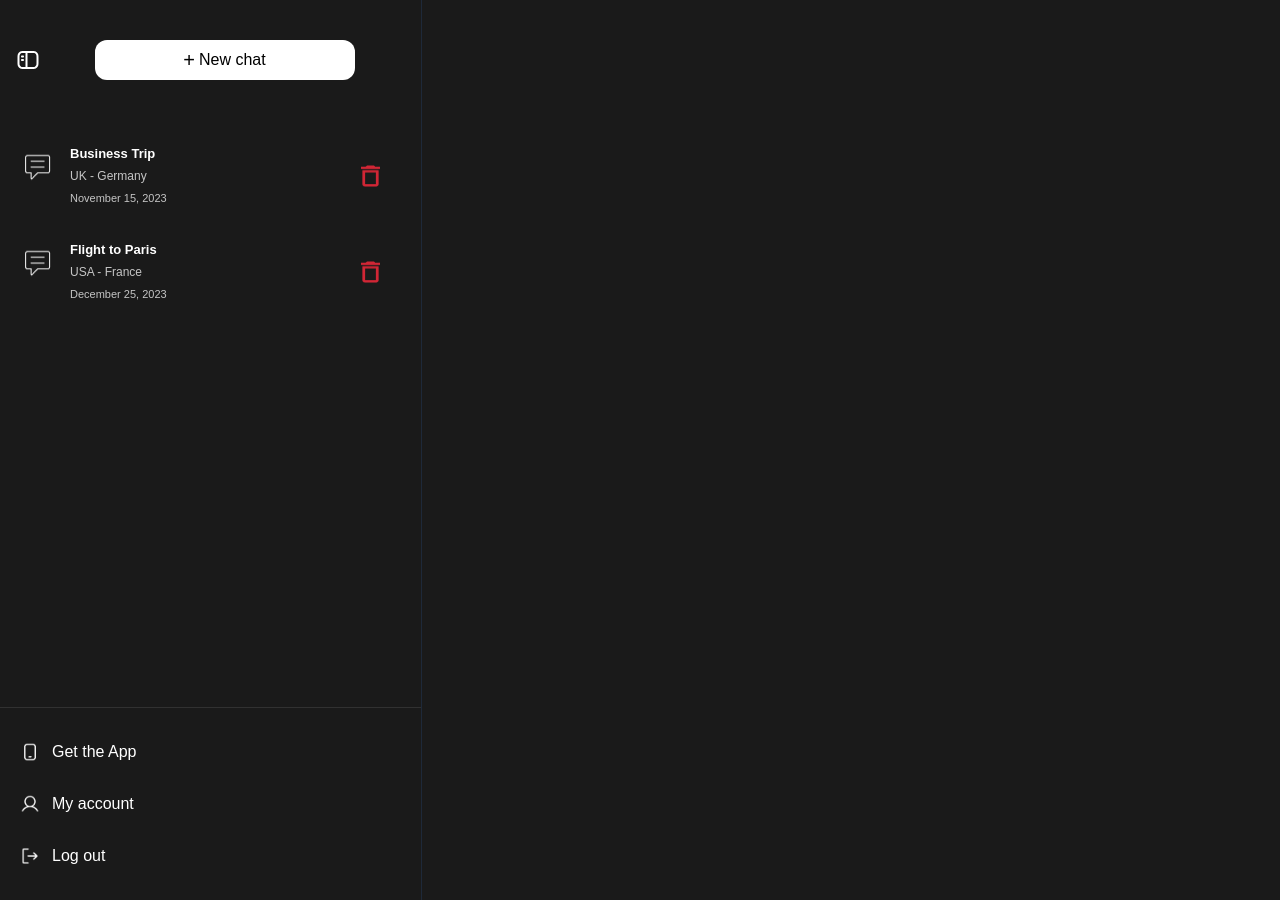
it: Sidebar Component › toggles account modal
Click the button "My account" at [93, 804], box [20,780,401,828]
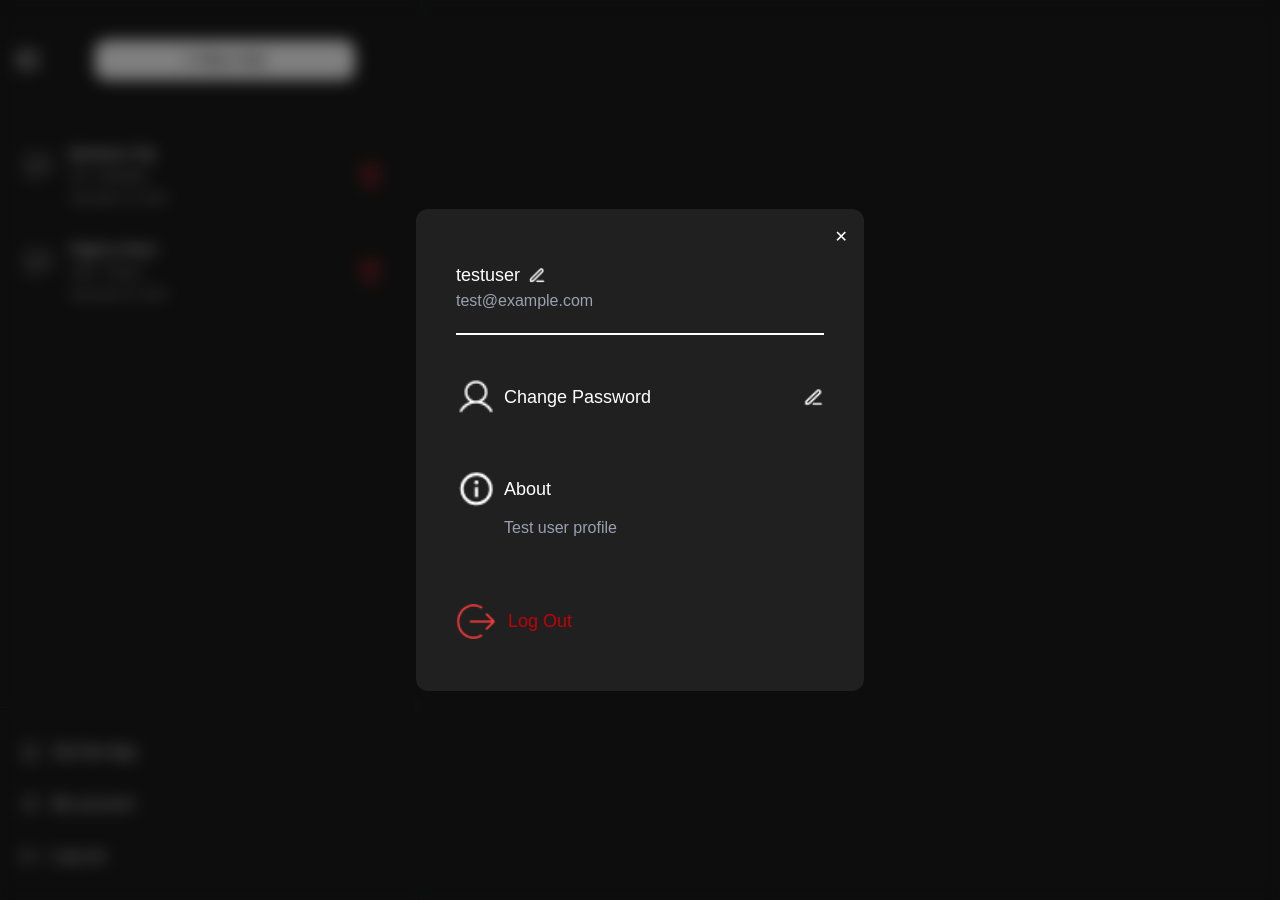
expect the heading "testuser" is shown: met, box [456,262,520,290]
Click the button named "Close" at [841, 238], box [835,226,848,250]
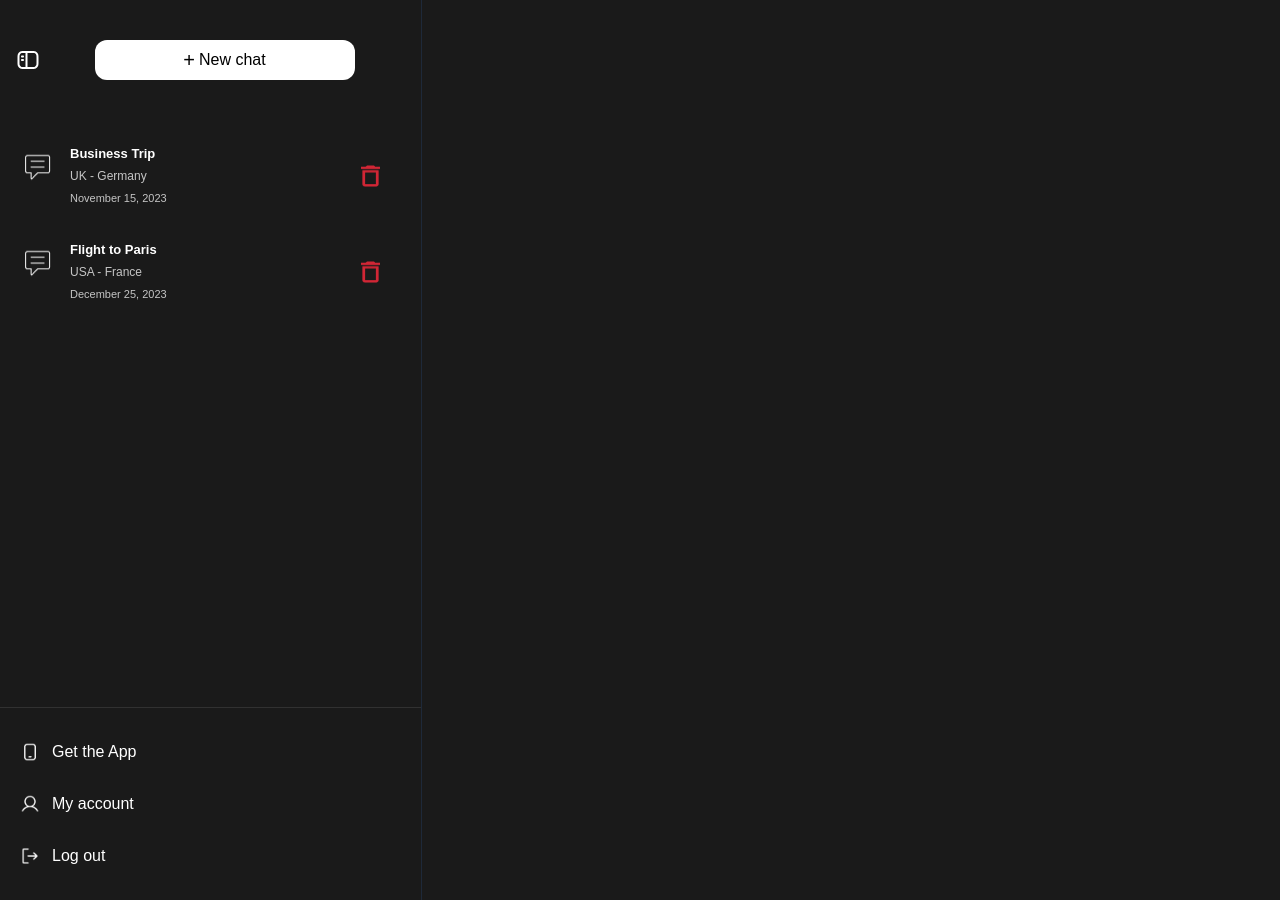
expect the heading "testuser" is gone: met
